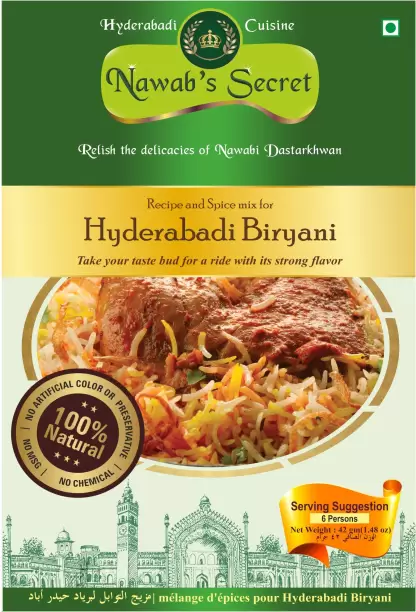Biryani: (11, 6, 416, 612)
